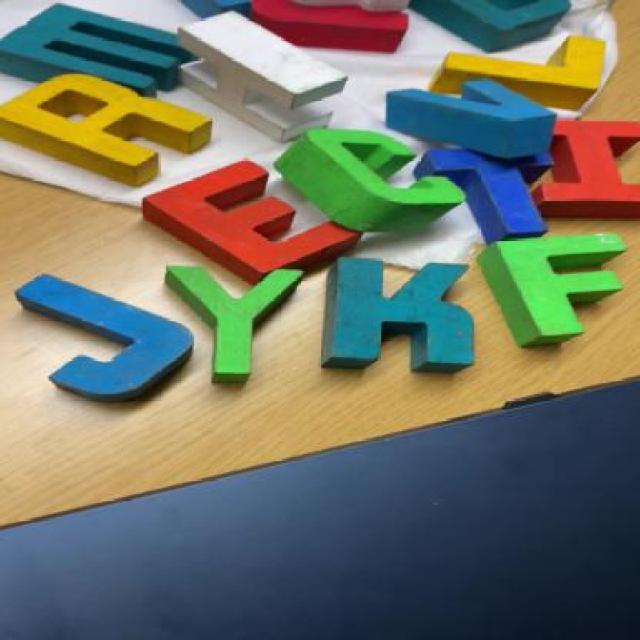C: (273, 122, 459, 228)
E: (131, 172, 358, 268)
F: (465, 232, 638, 352)
I: (537, 117, 638, 218)
J: (14, 266, 191, 408)
K: (304, 258, 470, 362)
L: (434, 35, 632, 99)
M: (3, 9, 189, 94)
R: (5, 73, 218, 184)
V: (377, 79, 558, 153)
Y: (159, 264, 307, 388)
